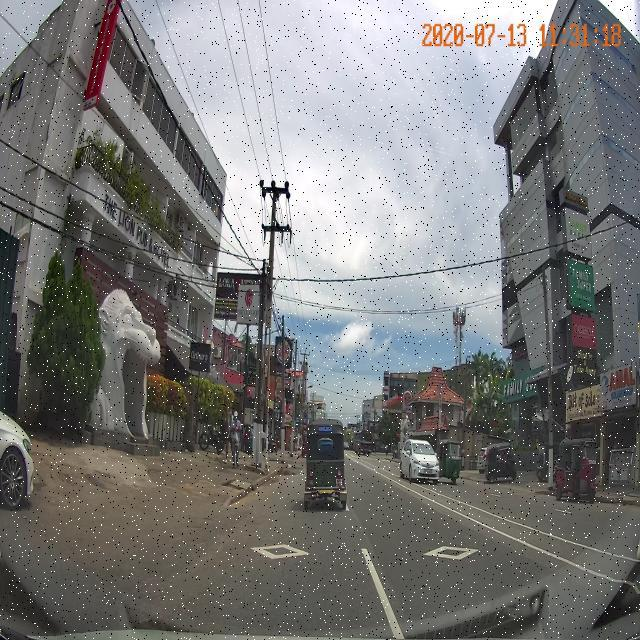diamond: (184, 524, 389, 588)
